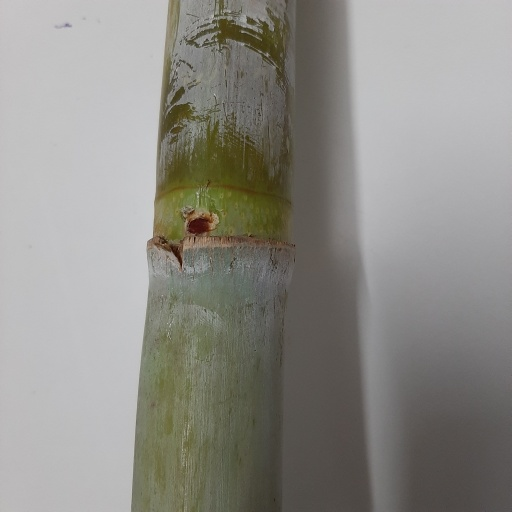Damage_Bud: (180, 208, 221, 235)
